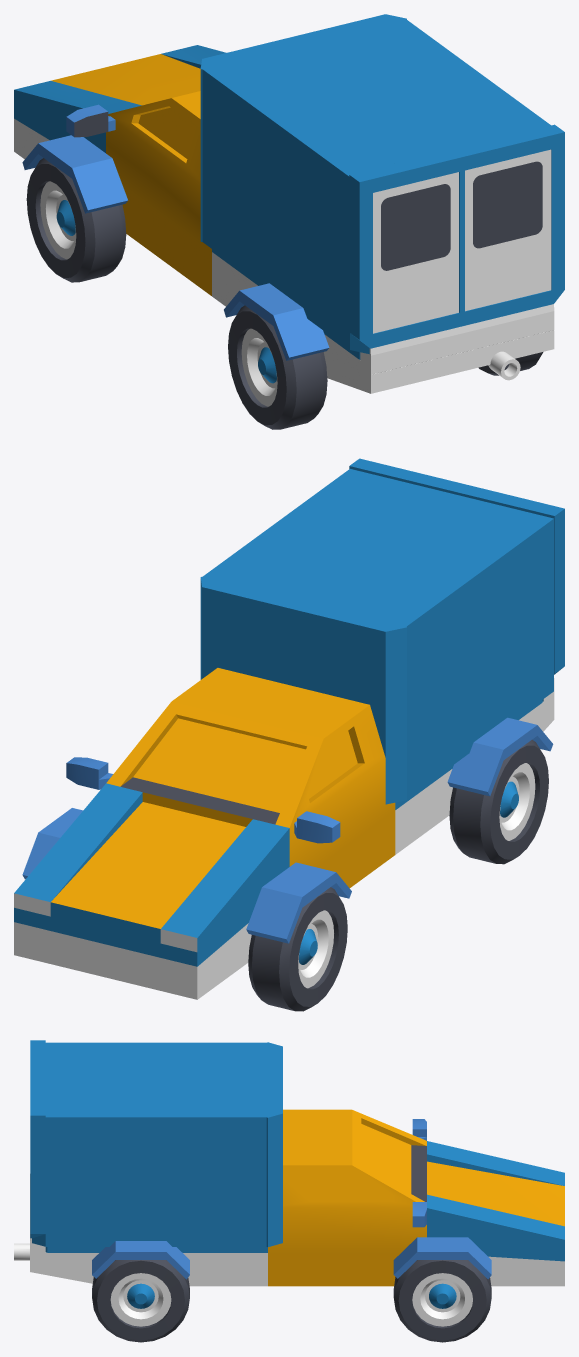
The model's file is Player Truck 5.fbx.
3 views of the same model, one above another, from view 1: azimuth 30°, elevation 25°; view 2: azimuth 150°, elevation 25°; view 3: azimuth 270°, elevation 25° (orthographic). The views are drawn at different scales.
Visible parts, largest first — view 1: trunk_truck_196, wall_straight_201, block_default_205, windshield_default_183, hood_sleek_187, wheel_colored_190, wheel_colored_189, trunk_bedFlat_195, wall_straight_203, detail_fenderSquare_206, detail_fenderSquare_181, wall_straight_202 (+2 smaller); view 2: hood_sleek_187, windshield_default_183, wall_straight_201, block_default_205, wall_straight_203, wheel_colored_189, wheel_colored_190, trunk_truck_196, detail_fenderSquare_206, detail_fenderSquare_181, trunk_bedFlat_195, wall_straight_202 (+3 smaller); view 3: wall_straight_202, windshield_default_183, hood_sleek_187, block_default_205, wheel_colored_192, wheel_colored_191, trunk_bedFlat_195, wall_straight_203, trunk_truck_196, detail_fenderSquare_165, wall_straight_201, detail_fenderSquare_163 (+1 smaller).
Boxes of the visible parts, x1=… form: trunk_truck_196: x1=349, y1=124, x2=564, y2=389; wall_straight_201: x1=202, y1=59, x2=369, y2=354; block_default_205: x1=213, y1=23, x2=536, y2=172; windshield_default_183: x1=106, y1=91, x2=211, y2=295; hood_sleek_187: x1=14, y1=45, x2=226, y2=159; wheel_colored_190: x1=228, y1=305, x2=327, y2=429; wheel_colored_189: x1=26, y1=158, x2=126, y2=282; trunk_bedFlat_195: x1=212, y1=249, x2=554, y2=393; wall_straight_203: x1=200, y1=14, x2=406, y2=241; detail_fenderSquare_206: x1=22, y1=135, x2=127, y2=213; detail_fenderSquare_181: x1=224, y1=283, x2=329, y2=360; wall_straight_202: x1=385, y1=14, x2=550, y2=130; hood_sleek_187: x1=14, y1=783, x2=289, y2=999; windshield_default_183: x1=106, y1=668, x2=395, y2=888; wall_straight_201: x1=385, y1=513, x2=553, y2=798; block_default_205: x1=212, y1=471, x2=539, y2=622; wall_straight_203: x1=200, y1=572, x2=406, y2=804; wheel_colored_189: x1=248, y1=887, x2=347, y2=1011; wheel_colored_190: x1=449, y1=740, x2=548, y2=864; trunk_truck_196: x1=349, y1=458, x2=564, y2=725; detail_fenderSquare_206: x1=246, y1=862, x2=351, y2=943; detail_fenderSquare_181: x1=447, y1=717, x2=553, y2=796; trunk_bedFlat_195: x1=395, y1=698, x2=554, y2=854; wall_straight_202: x1=201, y1=469, x2=370, y2=586; wall_straight_202: x1=32, y1=1109, x2=279, y2=1246; windshield_default_183: x1=268, y1=1109, x2=426, y2=1286; hood_sleek_187: x1=427, y1=1141, x2=564, y2=1286; block_default_205: x1=45, y1=1046, x2=267, y2=1113; wheel_colored_192: x1=393, y1=1260, x2=491, y2=1342; wheel_colored_191: x1=92, y1=1260, x2=189, y2=1342; trunk_bedFlat_195: x1=30, y1=1247, x2=267, y2=1286; wall_straight_203: x1=253, y1=1042, x2=282, y2=1246; trunk_truck_196: x1=30, y1=1040, x2=45, y2=1258; detail_fenderSquare_165: x1=393, y1=1237, x2=491, y2=1279; wall_straight_201: x1=45, y1=1042, x2=281, y2=1050; detail_fenderSquare_163: x1=92, y1=1241, x2=189, y2=1279.
Bounding box in the file's own units: 14.5 × 15.22 × 34.7.
